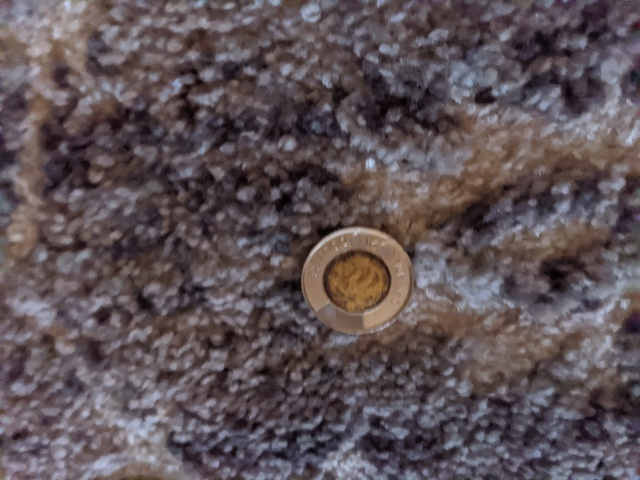twonie: (298, 217, 413, 328)
